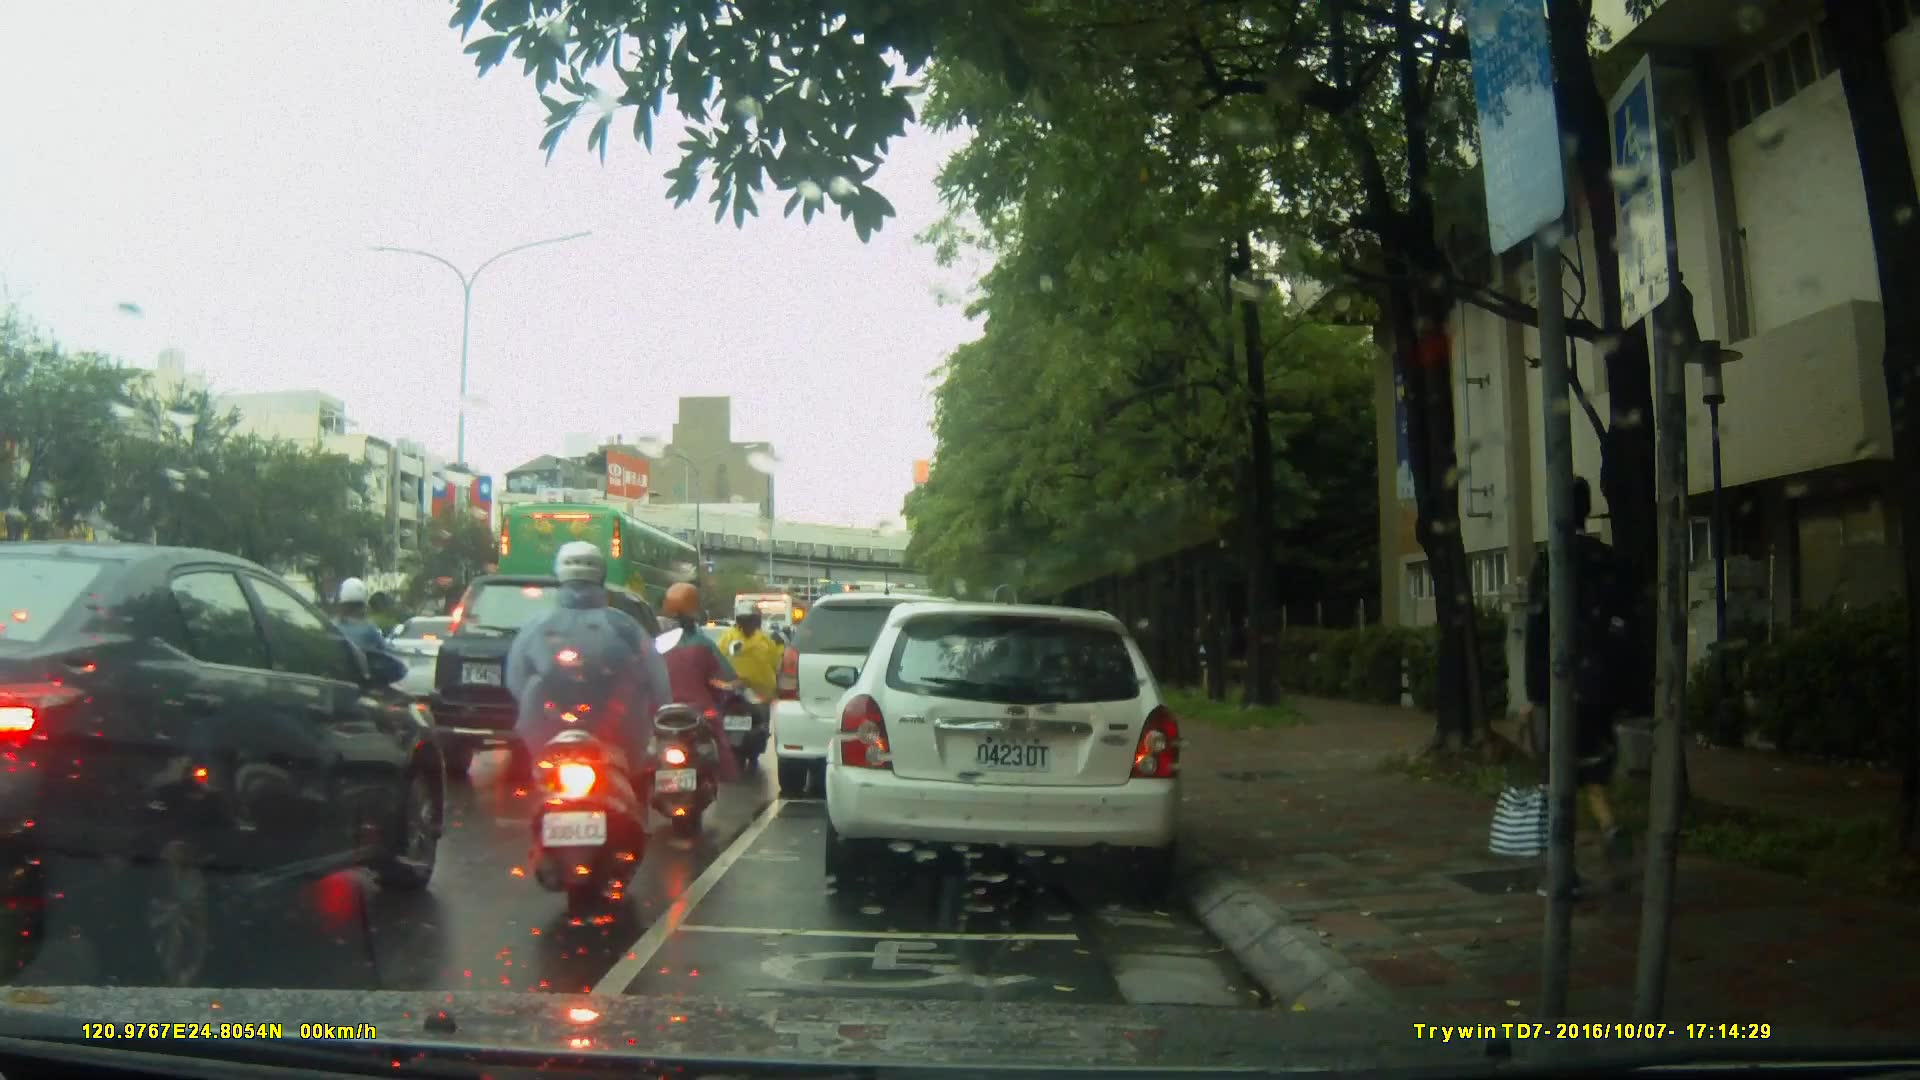pedestrian: (1482, 475, 1656, 903)
rider: (481, 539, 670, 916), (634, 585, 724, 835), (313, 578, 417, 777), (713, 599, 790, 764)
vehicle: (7, 537, 451, 986), (831, 592, 1196, 897), (431, 572, 679, 784), (770, 592, 999, 800), (493, 501, 705, 658)
